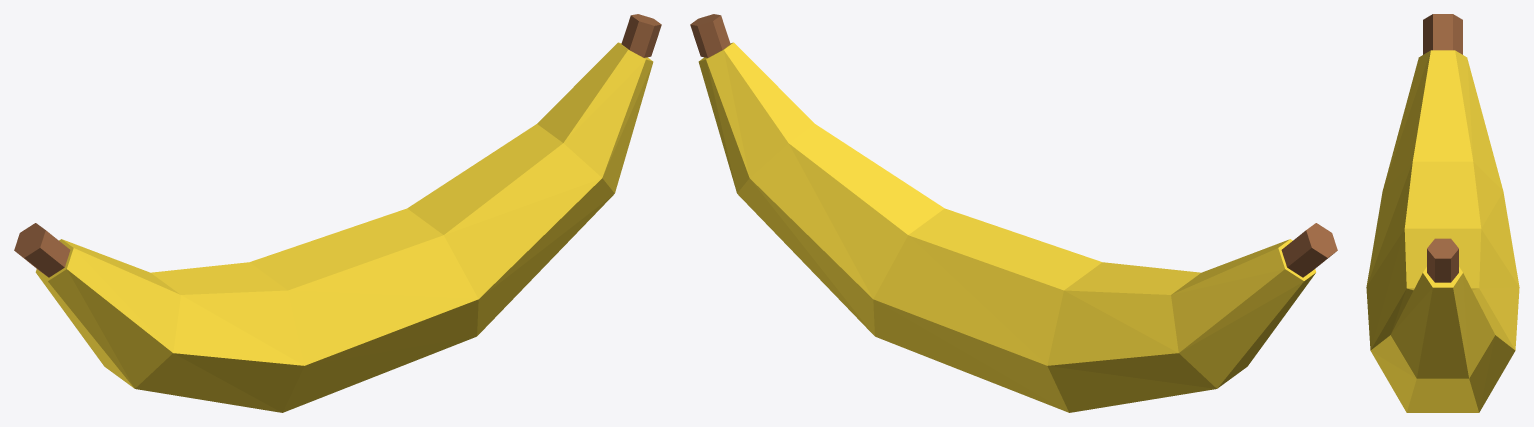
Rendered from banana.glb.
The picture shows the model from 3 angles, left to right: view 1: azimuth 30°, elevation 25°; view 2: azimuth 150°, elevation 25°; view 3: azimuth 270°, elevation 25°; orthographic projection.
Parts seen in each view (by area): view 1: banana; view 2: banana; view 3: banana.
Part boxes in pixels (bbox=[...]): banana: bbox=[14, 14, 661, 412]; banana: bbox=[690, 14, 1337, 412]; banana: bbox=[1366, 14, 1519, 412].
Size of the model in its own units: 0.1813 by 0.0787 by 0.038.
